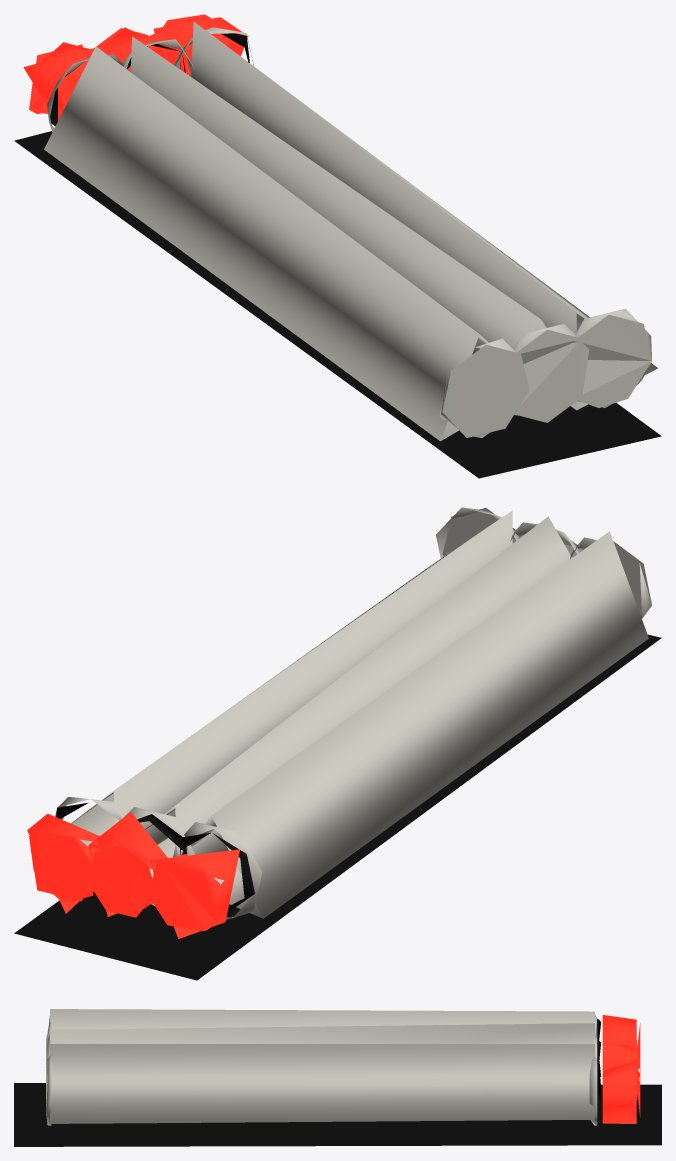
Rendered from module_1_capacitor_bank.glb.
3 renders of one model, top to bottom at view 1: azimuth 30°, elevation 25°; view 2: azimuth 150°, elevation 25°; view 3: azimuth 270°, elevation 25°, orthographic. The views are drawn at different scales.
Parts seen in each view (by area): view 1: module_1_capacitor_bank; view 2: module_1_capacitor_bank; view 3: module_1_capacitor_bank.
Part boxes in pixels (bbox=[...]): module_1_capacitor_bank: bbox=[14, 14, 661, 478]; module_1_capacitor_bank: bbox=[14, 507, 661, 980]; module_1_capacitor_bank: bbox=[14, 1009, 661, 1146].
Bounding box in the file's own units: 0.0346 × 0.0181 × 0.1246.
